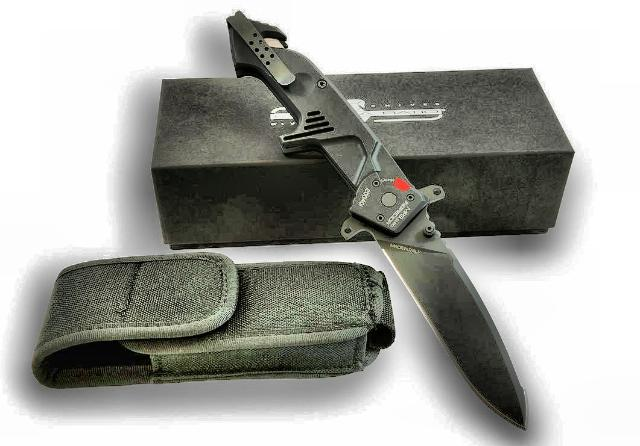knife: (368, 197, 534, 438)
